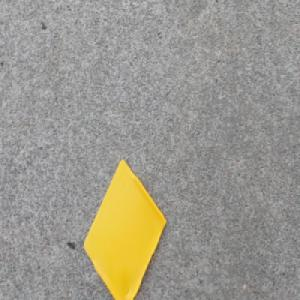PlasticPart: (82, 156, 168, 300)
